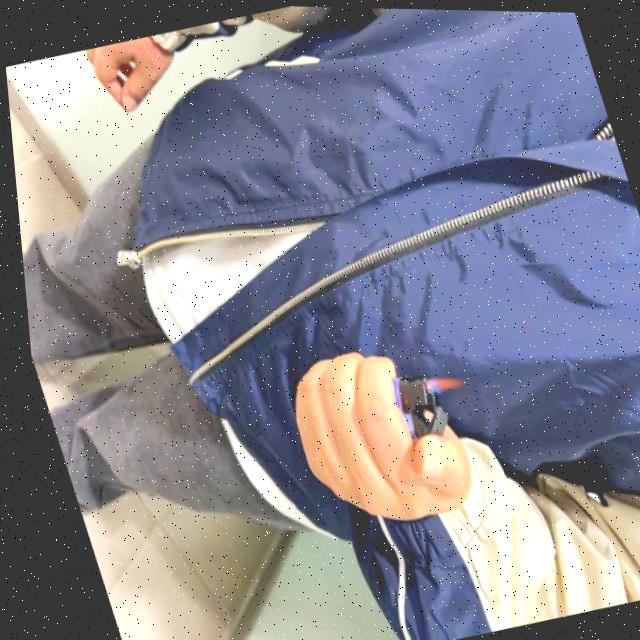Fire: (413, 366, 458, 395)
